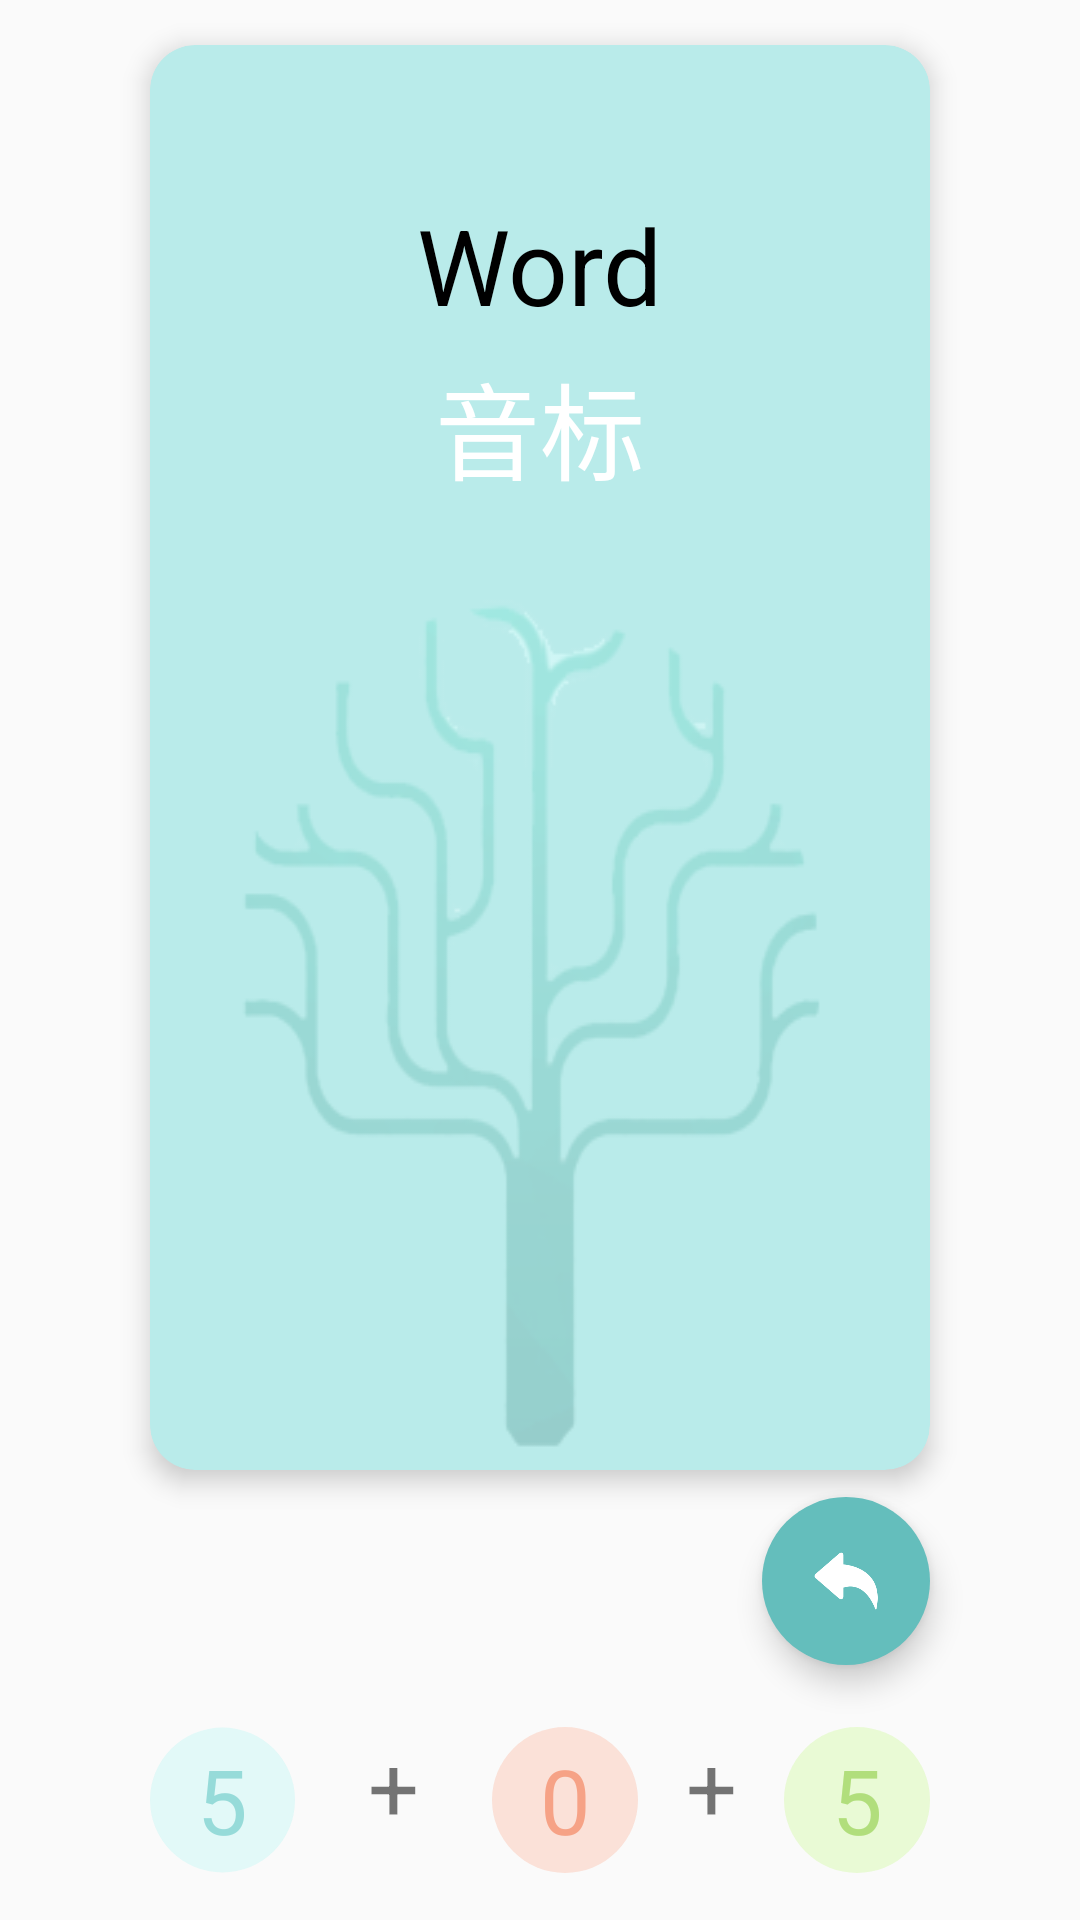

Named icons in this screenshot (1080×1920) and their centers, (x,y):
fanhui: (846,1581)
